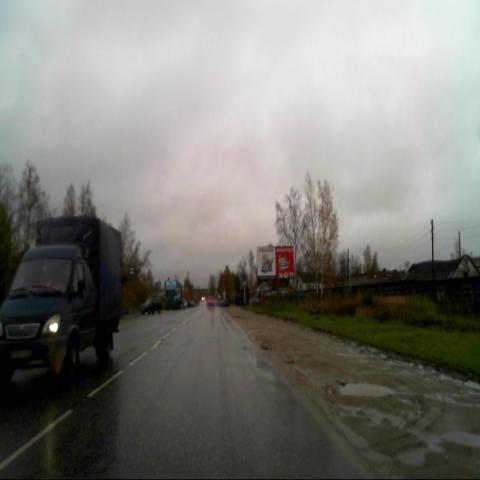5_16: (129, 264, 135, 280)
